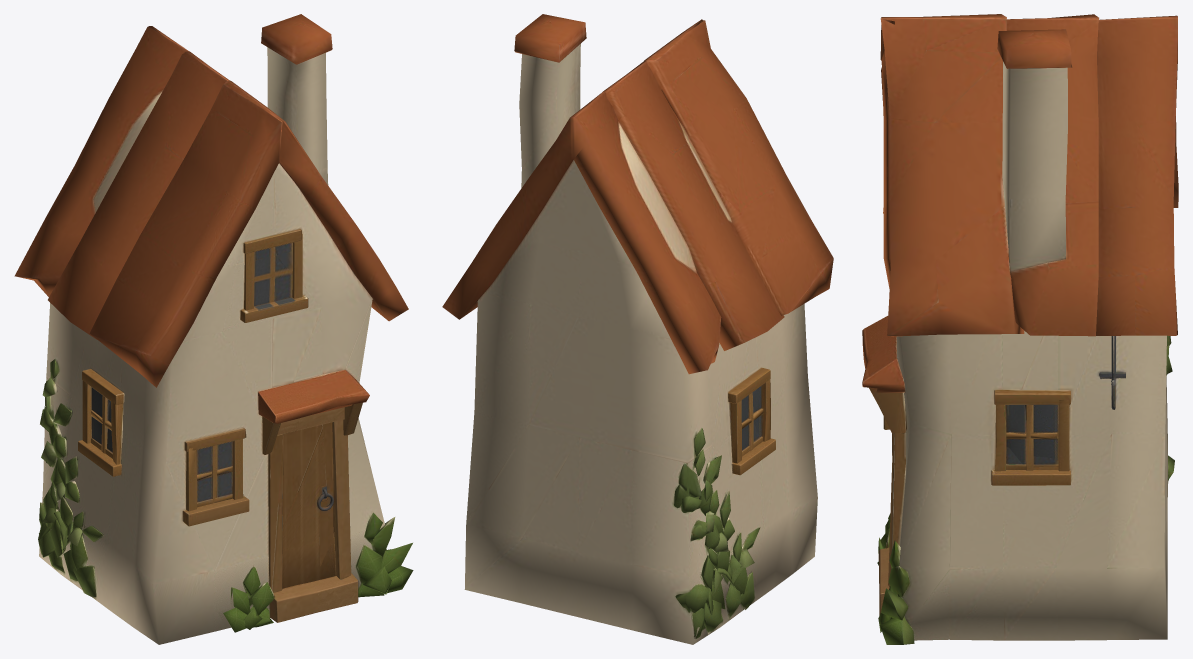
File: AW-VAR-BUILD-001-v0.2.glb
3 renders of one model, left to right at view 1: azimuth 30°, elevation 25°; view 2: azimuth 150°, elevation 25°; view 3: azimuth 270°, elevation 25°, orthographic. The views are drawn at different scales.
Parts seen in each view (by area): view 1: AW-VAR-BUILD-001_meter_ground_pivot; view 2: AW-VAR-BUILD-001_meter_ground_pivot; view 3: AW-VAR-BUILD-001_meter_ground_pivot.
Boxes of the visible parts, bbox=[...] form: AW-VAR-BUILD-001_meter_ground_pivot: bbox=[14, 14, 413, 644]; AW-VAR-BUILD-001_meter_ground_pivot: bbox=[442, 14, 833, 644]; AW-VAR-BUILD-001_meter_ground_pivot: bbox=[862, 14, 1178, 644].
Size of the model in its own units: 2.49 by 4.5 by 2.18.
1 material, 1 textured.
